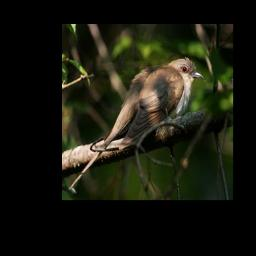Cuckoo: (68, 56, 205, 191)
